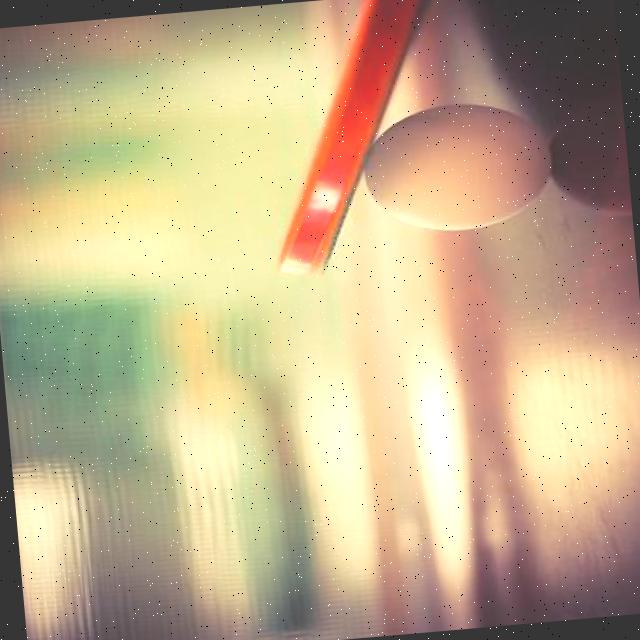ping-pong-ball: (356, 92, 560, 238)
